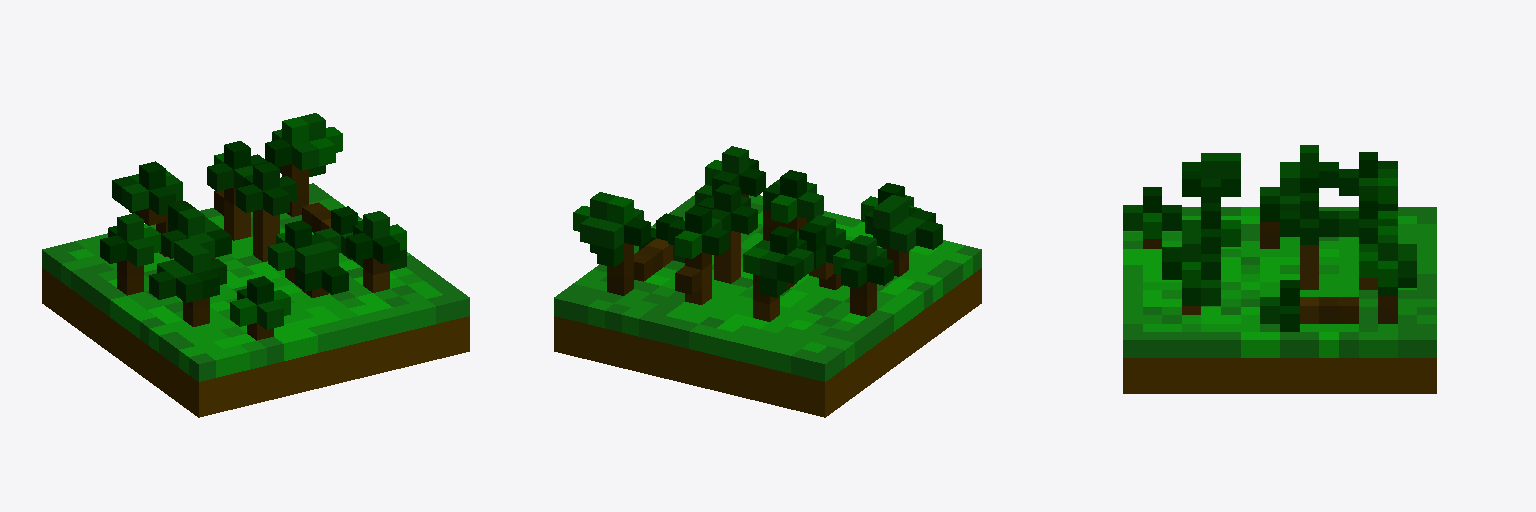
The picture shows the model from 3 angles: view 1: azimuth 30°, elevation 25°; view 2: azimuth 150°, elevation 25°; view 3: azimuth 270°, elevation 25°; orthographic projection.
Parts seen in each view (by area): view 1: Matrix_5; view 2: Matrix_5; view 3: Matrix_5.
Part boxes in pixels (x1,y1,x2,y2): Matrix_5: (42,113,469,417); Matrix_5: (554,146,981,417); Matrix_5: (1123,145,1436,393).
Size of the model in its own units: 16 by 8 by 16.
1 materials, 1 textured.